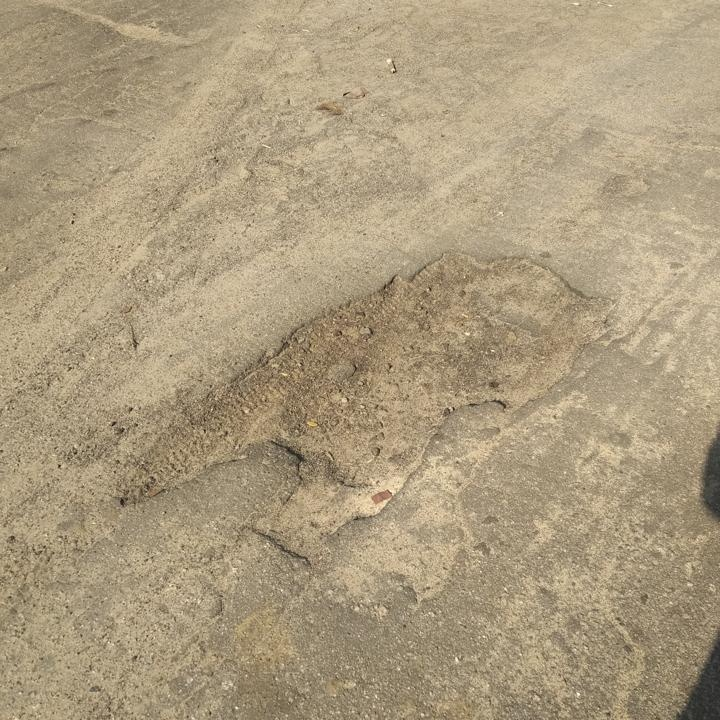pothole: (108, 242, 621, 569)
